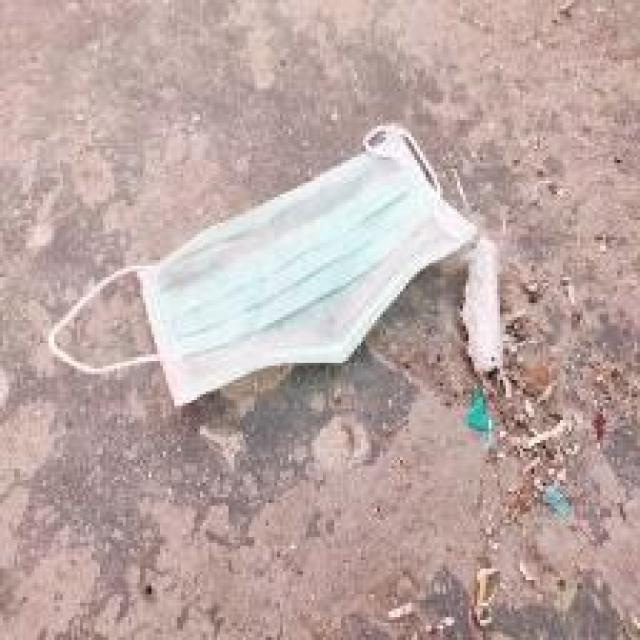Mask: (56, 162, 505, 491)
